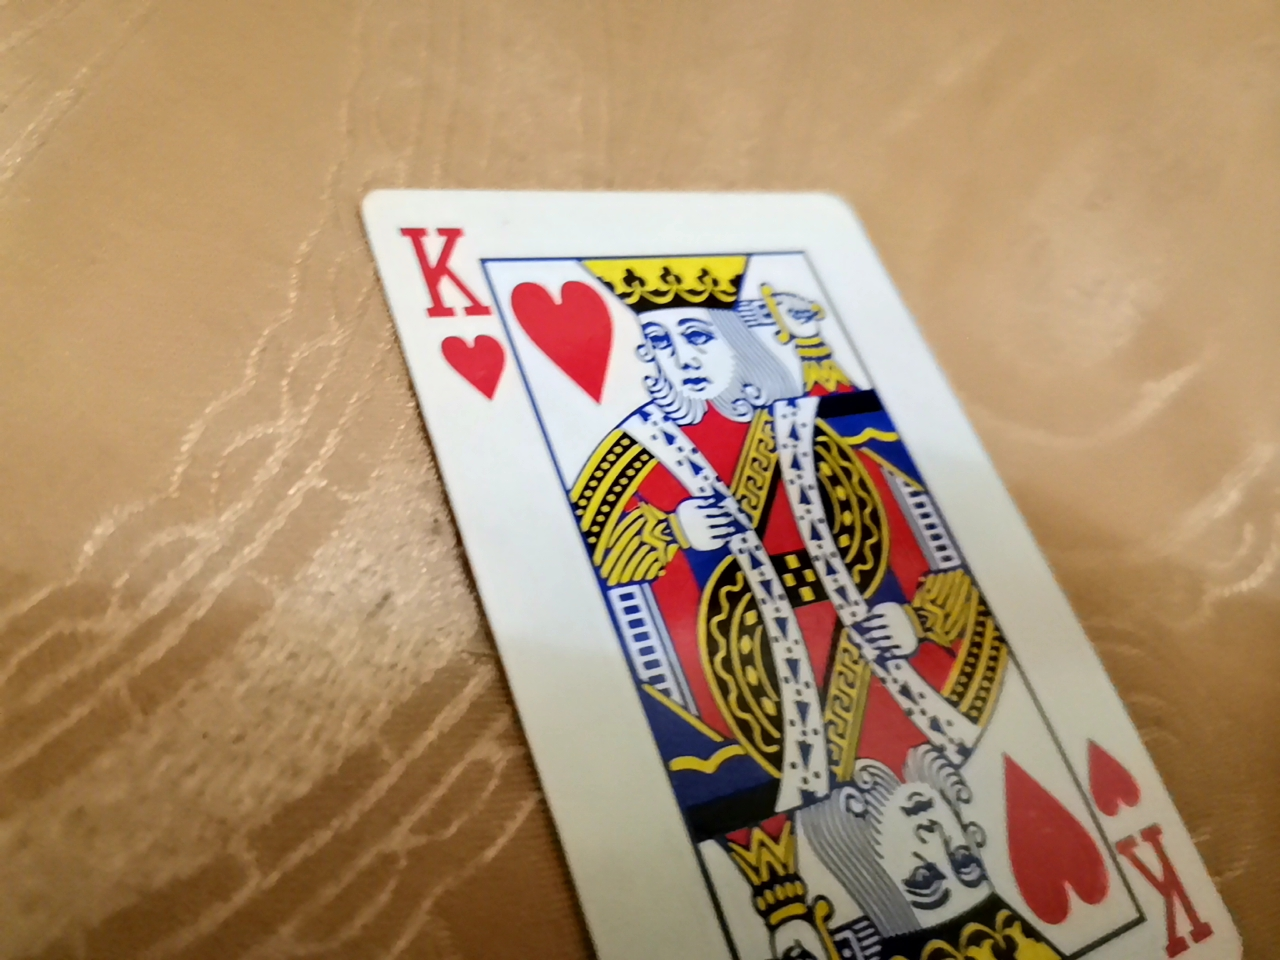hx k: (212, 28, 1079, 929)
